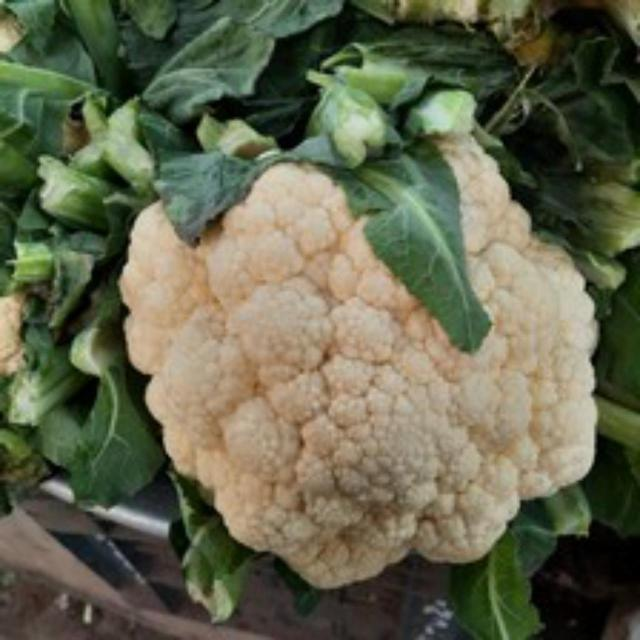cauliflower: (117, 114, 622, 598)
